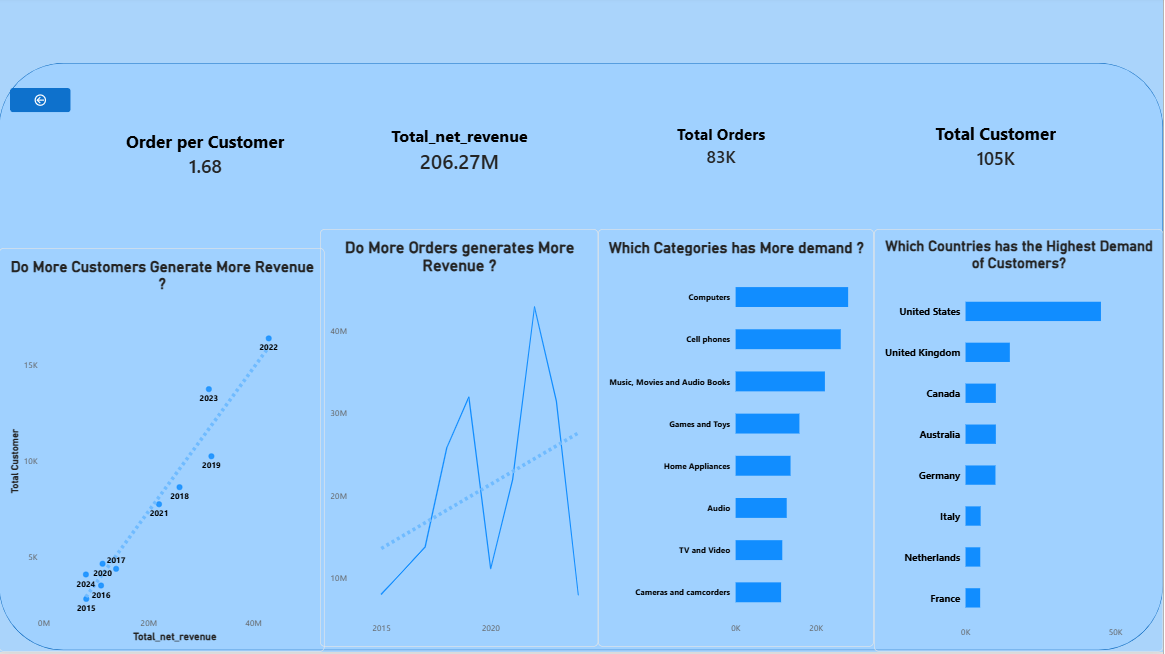

The dashboard page shown, as its layout file describes it:
{"tool":"powerbi","page":{"name":"Customers_overview","canvas":[1920,1080],"ordinal":0},"visuals":[{"type":"group","id":"g1","title":"Background","box":[0,109.4,1920,970.7],"z":0},{"type":"cardVisual","fields":{"Data":["public customer.Total Customer per Order"]},"box":[151.8,169.9,377.7,179.8],"z":1000},{"type":"cardVisual","fields":{"Data":["public customer.Total Customer"]},"box":[1423.9,148.4,441.4,195.3],"z":2000},{"type":"lineChart","title":"Do More Orders generates More Revenue ?","fields":{"Category":["public date.year"],"Y":["public sales.Total_net_revenue"]},"box":[529.3,382.8,459,689.5],"z":3000},{"type":"clusteredBarChart","title":"Which Categories has More demand ?","fields":{"Category":["public product.categoryname"],"Y":["public customer.Active Customer"]},"box":[988.3,382.8,455.1,689.5],"z":4000},{"type":"clusteredBarChart","title":"Which Countries has the Highest Demand of Customers?","fields":{"Category":["public customer.countryfull"],"Y":["public customer.Total Customer"]},"box":[1443.4,382.8,476.6,697.3],"z":5000},{"type":"actionButton","box":[18.1,150.1,100,40],"z":5001},{"type":"shape","box":[0,109.4,1920,968.8],"z":6500,"group":"g1"},{"type":"scatterChart","title":"Do More Customers Generate More Revenue ?","fields":{"Category":["public date.year"],"X":["public sales.Total_net_revenue"],"Y":["public customer.Total Customer"]},"box":[0,414.1,537.1,666],"z":7000,"group":"g1"},{"type":"cardVisual","fields":{"Data":["public sales.Total Orders"]},"box":[988.3,134.1,406.3,224.6],"z":8000,"group":"g1"},{"type":"cardVisual","fields":{"Data":["public sales.Total_net_revenue"]},"box":[578.1,115.7,361.3,273.4],"z":9000,"group":"g1"}]}

Visuals, with their boxes in screenshot pixels (x1, y1, x2, y2), scaled from the page's 1920x1080 canvas onto the 1165x654 screenshot:
"Background" group: (left=0, top=66, right=1164, bottom=653)
cardVisual - public customer.Total Customer per Order: (left=92, top=103, right=321, bottom=212)
cardVisual - public customer.Total Customer: (left=864, top=90, right=1132, bottom=208)
"Do More Orders generates More Revenue ?" lineChart: (left=321, top=232, right=600, bottom=649)
"Which Categories has More demand ?" clusteredBarChart: (left=600, top=232, right=876, bottom=649)
"Which Countries has the Highest Demand of Customers?" clusteredBarChart: (left=876, top=232, right=1164, bottom=653)
actionButton: (left=11, top=91, right=72, bottom=115)
shape: (left=0, top=66, right=1164, bottom=653)
"Do More Customers Generate More Revenue ?" scatterChart: (left=0, top=251, right=326, bottom=653)
cardVisual - public sales.Total Orders: (left=600, top=81, right=846, bottom=217)
cardVisual - public sales.Total_net_revenue: (left=351, top=70, right=570, bottom=236)
